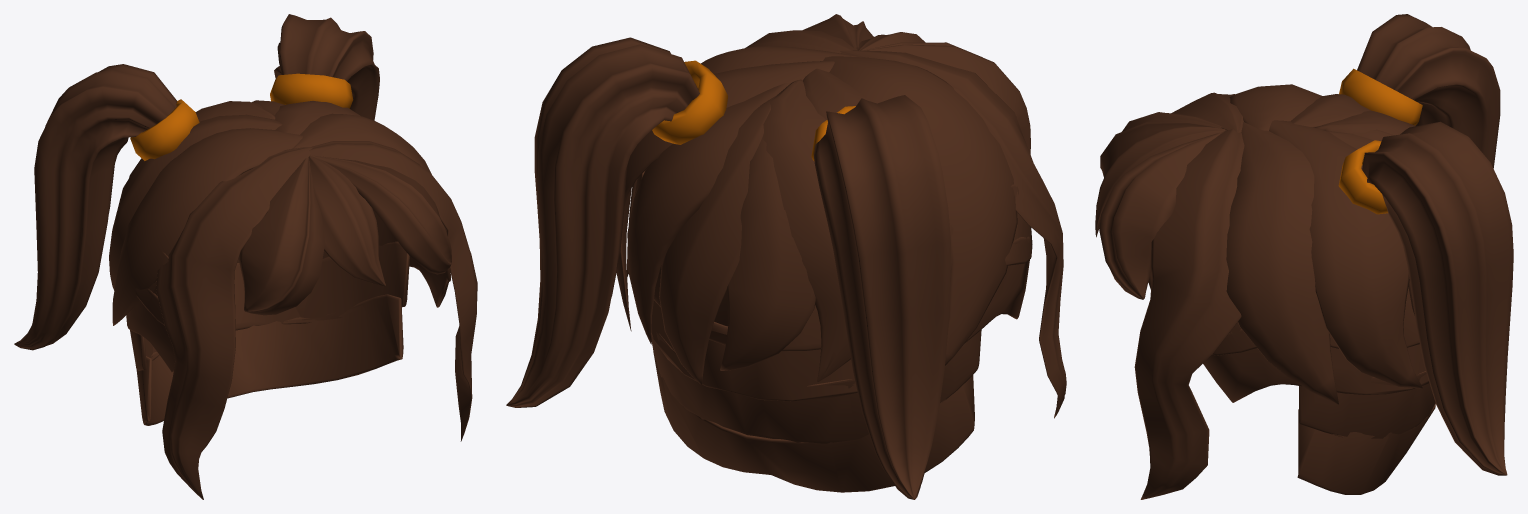
3 views of the same model, side by side, from view 1: azimuth 30°, elevation 25°; view 2: azimuth 150°, elevation 25°; view 3: azimuth 270°, elevation 25° (orthographic). The views are drawn at different scales.
Parts seen in each view (by area): view 1: hairShortPigtails; view 2: hairShortPigtails; view 3: hairShortPigtails.
Part boxes in pixels (x1=…): hairShortPigtails: x1=14, y1=14, x2=477, y2=499; hairShortPigtails: x1=506, y1=14, x2=1066, y2=499; hairShortPigtails: x1=1095, y1=14, x2=1513, y2=499.
Size of the model in its own units: 0.559 by 0.5351 by 0.5459.
Materials: 1 (1 with a texture image).
